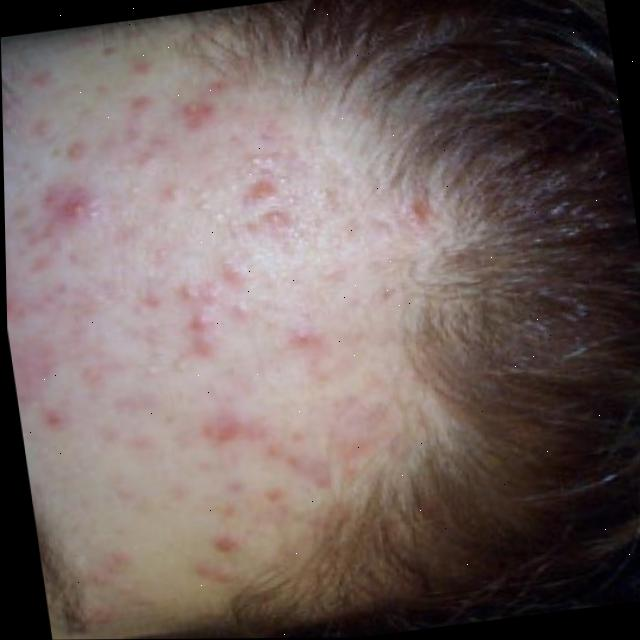Acne: (0, 9, 420, 612)
